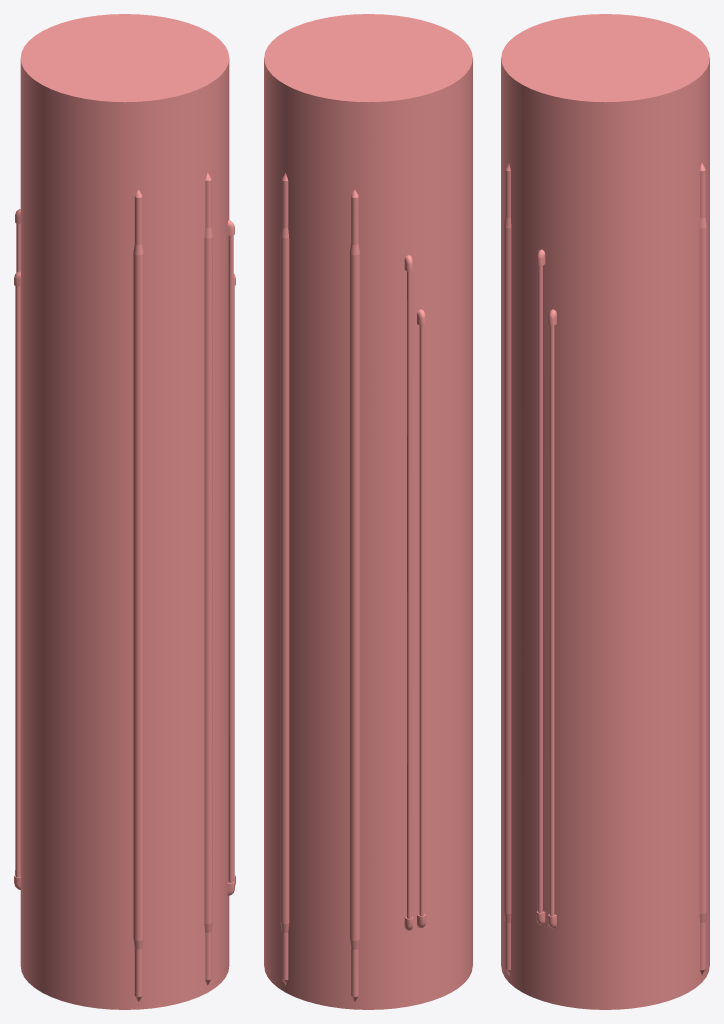
File: RLV_1_LFO_1.obj
The picture shows the model from 3 angles, left to right: view 1: azimuth 30°, elevation 25°; view 2: azimuth 150°, elevation 25°; view 3: azimuth 270°, elevation 25°; orthographic projection.
Parts seen in each view (by area): view 1: RLV_1_LFO_1; view 2: RLV_1_LFO_1; view 3: RLV_1_LFO_1.
Boxes of the visible parts, x1,y1,x2,y2 form: RLV_1_LFO_1: (14, 14, 235, 1009); RLV_1_LFO_1: (264, 14, 472, 1009); RLV_1_LFO_1: (501, 14, 709, 1009).
Size of the model in its own units: 5 by 24 by 5.
